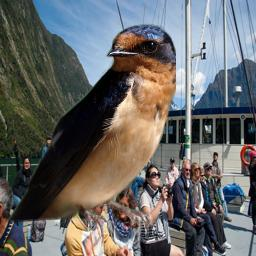Swallow: (6, 23, 176, 244)
